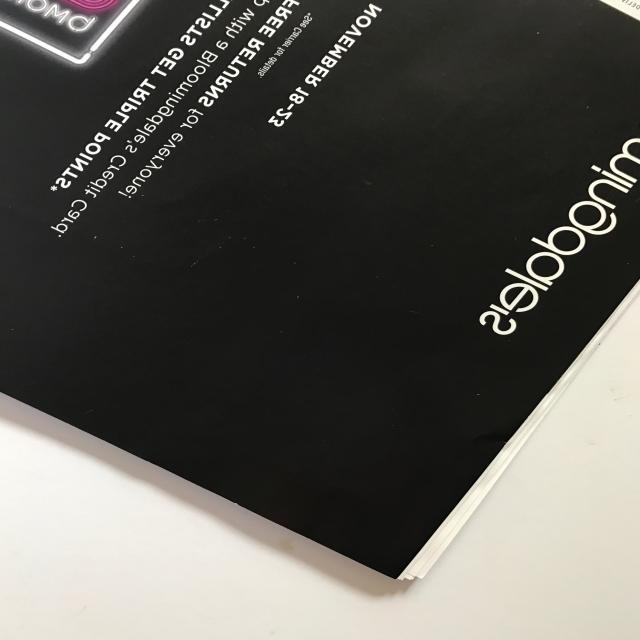paper: (0, 0, 640, 601)
